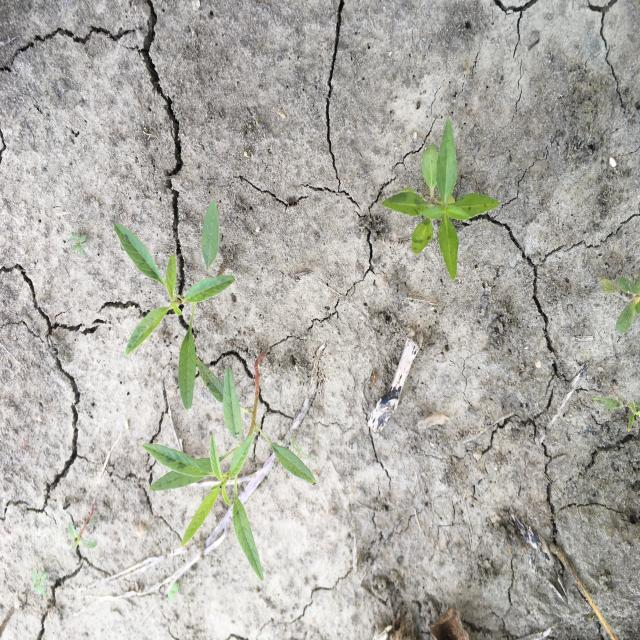Eclipta: (381, 114, 502, 283)
Waterhemp: (142, 346, 318, 583), (112, 200, 236, 411)
